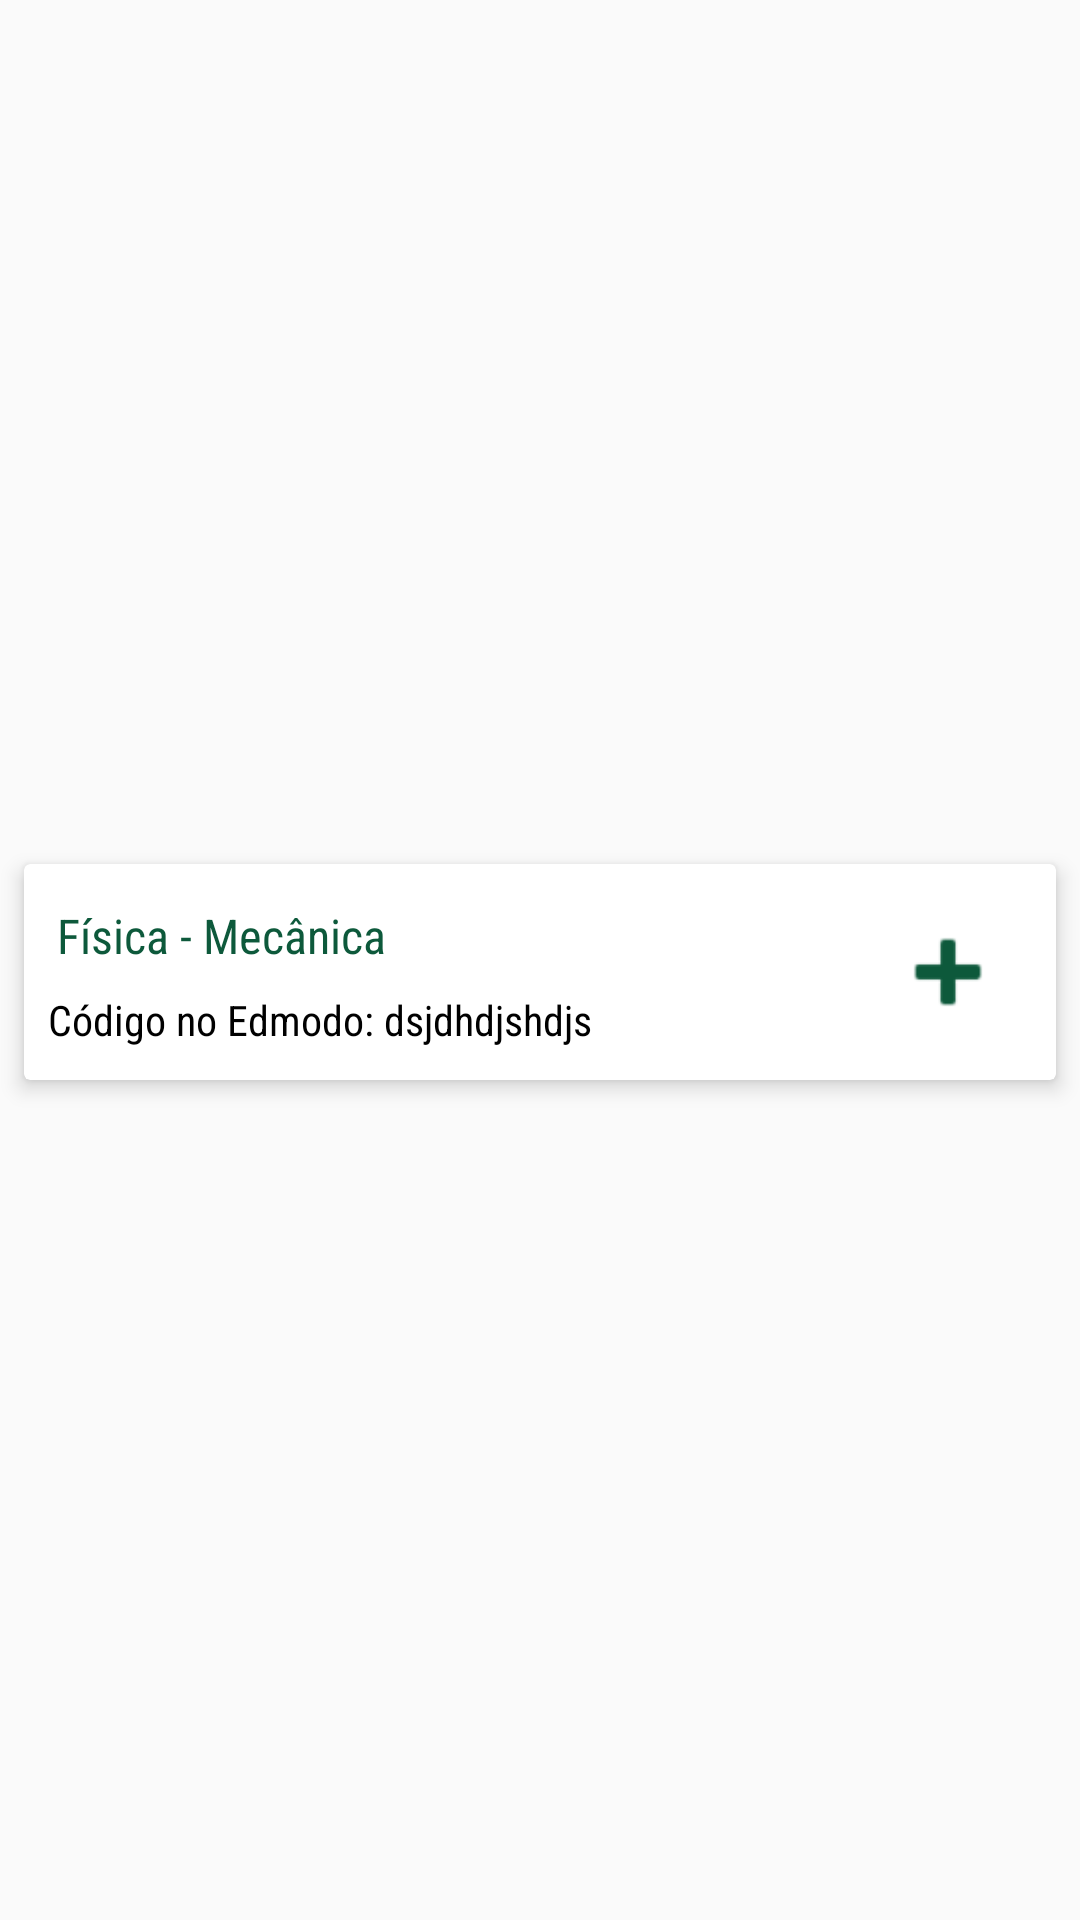

Named icons in this screenshot (1080 x 1920) and their bounding boxes, [x1, y1, x2, y2]:
add: [914, 938, 982, 1006]
